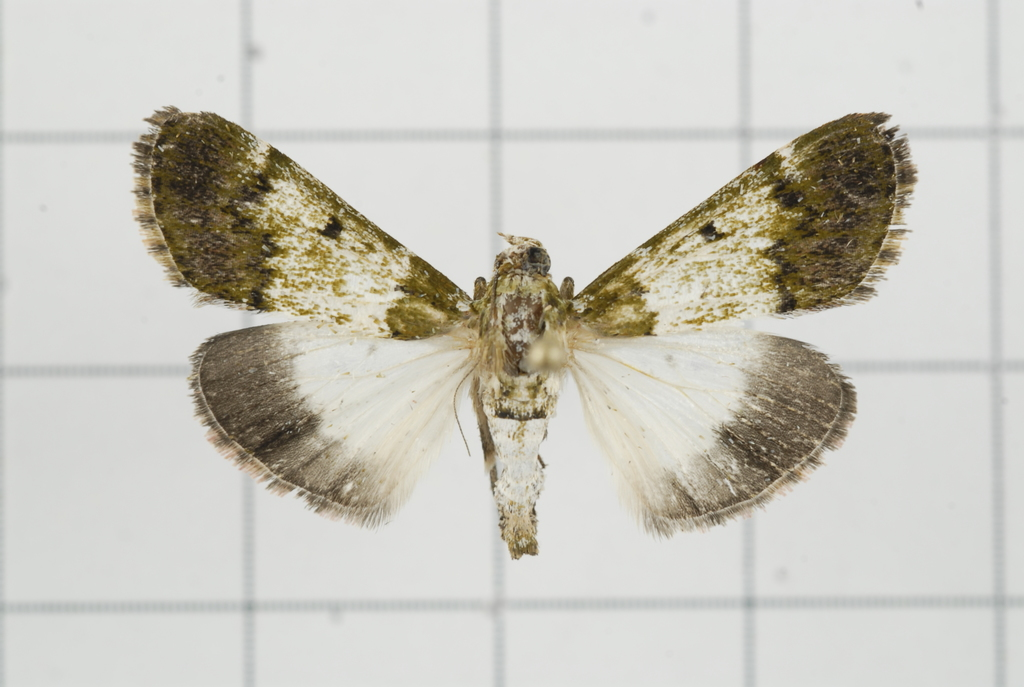Butterfly: (122, 68, 961, 594)
